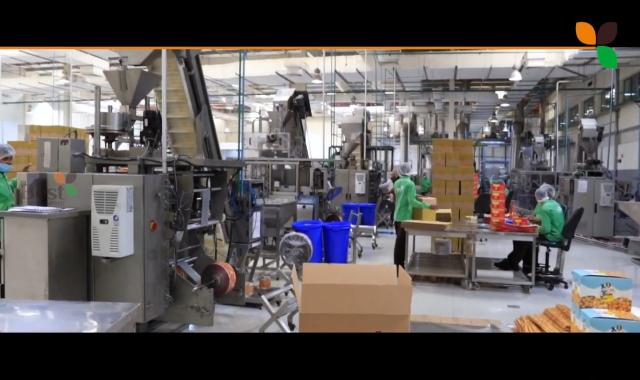hairnet: (536, 183, 554, 205), (0, 143, 16, 164), (399, 163, 414, 179)
